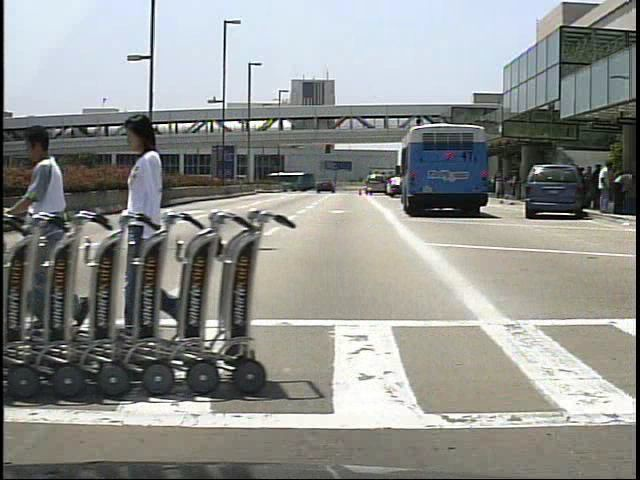person: (113, 110, 203, 351), (14, 121, 90, 340), (598, 160, 619, 215), (589, 164, 604, 213)
